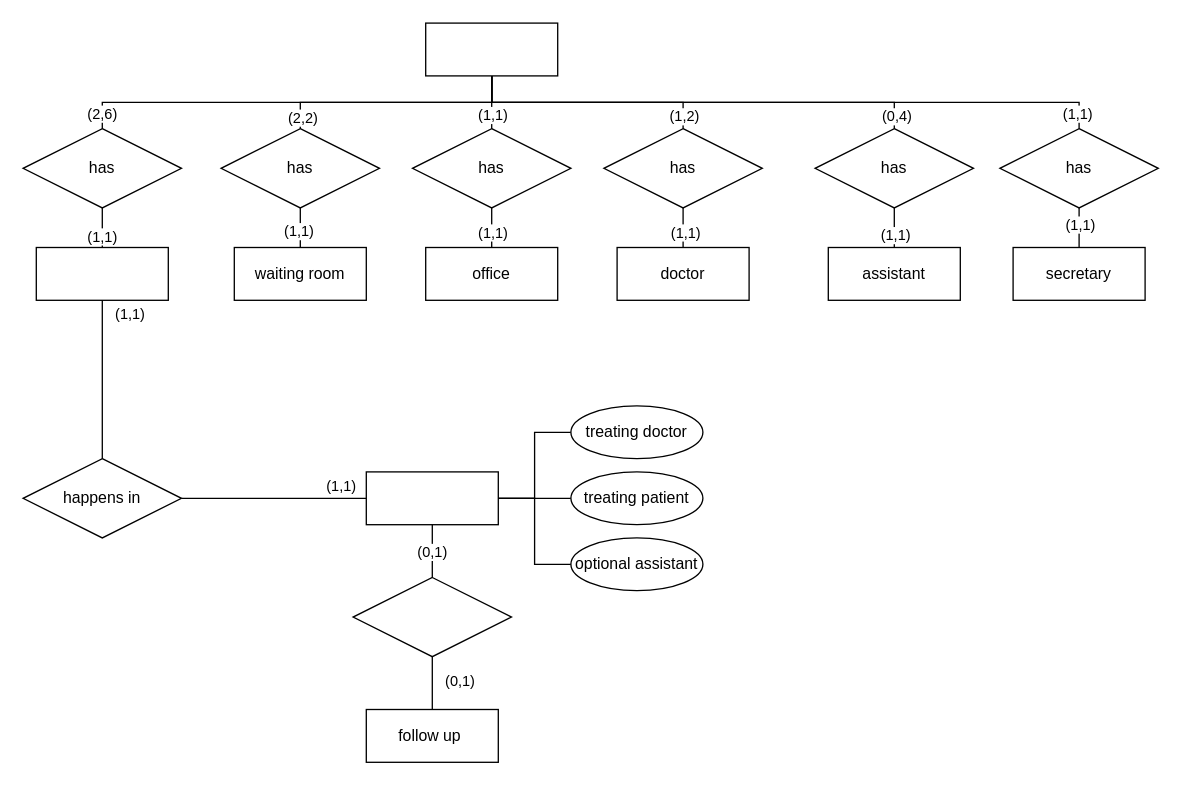
Image size: 1181x785. Some labels were removed from this diagram. Each missing label, with the centre of its shape:
Appointment: (431,498)
can have: (432,616)
doctor's office: (491,49)
treatment room: (101,273)
